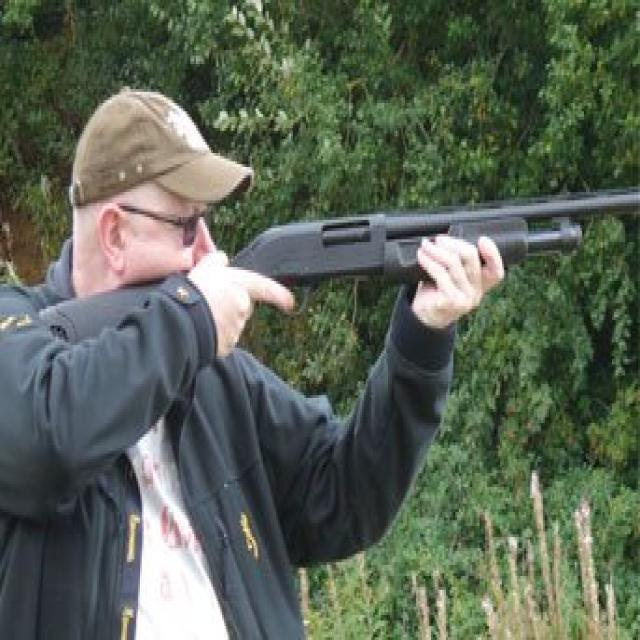ShotGun: (37, 189, 640, 345)
